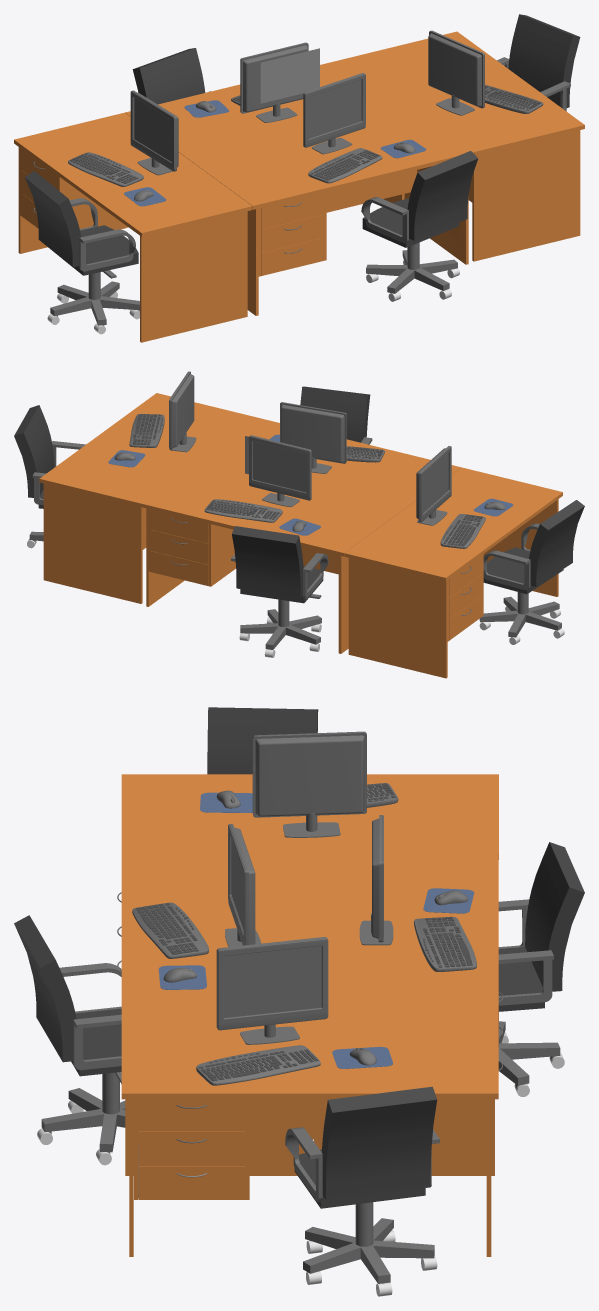
File: modern_minimal_lowpoly_office_table_set.glb
The picture shows the model from 3 angles, top to bottom: view 1: azimuth 30°, elevation 25°; view 2: azimuth 150°, elevation 25°; view 3: azimuth 270°, elevation 25°; orthographic projection. The views are drawn at different scales.
Visible parts, largest first — view 1: G-Table Frame.007, G-Table Frame.005, G-Table Frame.004, G-Table Frame.006, G-Table Frame.001, G-Table Frame.003, G-__562611.001, G-__562611.002, G-Table Frame.008, G-__562611.004, computer.dxf.011, computer.dxf.006 (+19 smaller); view 2: G-Table Frame.007, G-Table Frame.004, G-Table Frame.006, G-Table Frame.001, G-Table Frame.003, G-Table Frame.005, G-__562611.003, G-__562611.002, computer.dxf.117, computer.dxf.011, G-Table Frame.002, G-__562611.004 (+20 smaller); view 3: G-Table Frame.001, G-Table Frame.003, G-Table Frame.004, G-Table Frame.005, G-__562611.004, computer.dxf.016, computer.dxf.006, G-__562611.003, G-Table Frame.006, G-__562611.001, G-__562611.002, G-__562683.004 (+22 smaller).
Boxes of the visible parts, x1,y1,x2,y2 form: G-Table Frame.007: (18,147,247,342); G-Table Frame.005: (189,105,474,209); G-Table Frame.004: (14,112,252,236); G-Table Frame.006: (468,130,580,261); G-Table Frame.001: (346,31,584,155); G-Table Frame.003: (125,58,409,159); G-__562611.001: (362,151,478,247); G-__562611.002: (25,170,138,275); G-Table Frame.008: (247,166,468,315); G-__562611.004: (508,14,580,107); computer.dxf.011: (303,73,365,154); computer.dxf.006: (428,30,484,115); G-Table Frame.007: (348,499,558,678); G-Table Frame.004: (344,467,562,581); G-Table Frame.006: (43,483,146,603); G-Table Frame.001: (39,393,257,506); G-Table Frame.003: (141,460,402,556); G-Table Frame.005: (200,417,460,509); G-__562611.003: (232,526,323,603); G-__562611.002: (483,500,584,594); computer.dxf.117: (249,435,311,507); computer.dxf.011: (280,402,346,473); G-Table Frame.002: (146,508,348,653); G-__562611.004: (14,405,54,508); G-Table Frame.001: (121,1013,498,1099); G-Table Frame.003: (310,854,498,1013); G-Table Frame.004: (121,774,498,859); G-Table Frame.005: (121,854,310,1013); G-__562611.004: (294,1086,437,1208); computer.dxf.016: (252,731,366,837); computer.dxf.006: (216,937,328,1044); G-__562611.003: (498,842,584,1011); G-Table Frame.006: (129,1099,491,1256); G-__562611.001: (14,915,121,1076); G-__562611.002: (207,707,318,774); G-__562683.004: (303,1202,434,1283).
Bounding box in the file's own units: 3.82 × 1.15 × 2.27.
